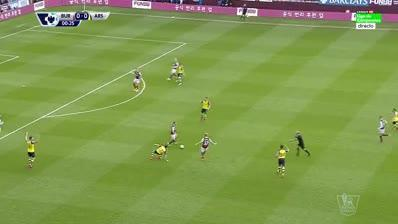futbol: (179, 144, 187, 151)
player: (273, 142, 291, 180), (195, 131, 216, 163), (25, 134, 41, 171), (129, 67, 144, 97), (198, 94, 212, 125), (376, 114, 390, 145), (149, 143, 171, 162), (165, 121, 179, 149), (166, 55, 179, 82), (177, 63, 186, 90), (390, 106, 397, 133)
referree: (292, 128, 314, 159)
